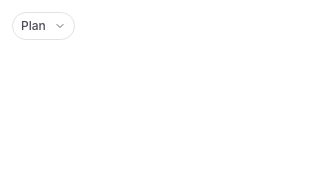
Test: Select › Escape closes and returns focus; Tab closes
Click the button with aria-label "Type".
click(43, 26)  # box [12,12,75,40]
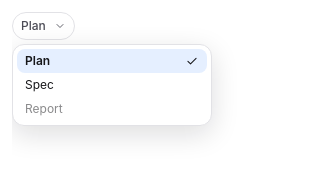
Press Escape
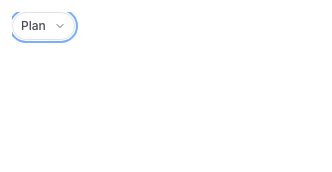
Check: the element with class "sel-pop" is gone
Click the button with aria-label "Type".
click(43, 26)  # box [12,12,75,40]
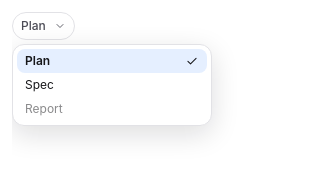
Press Tab
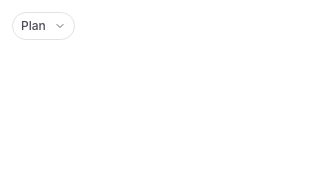
Check: the element with class "sel-pop" is gone
